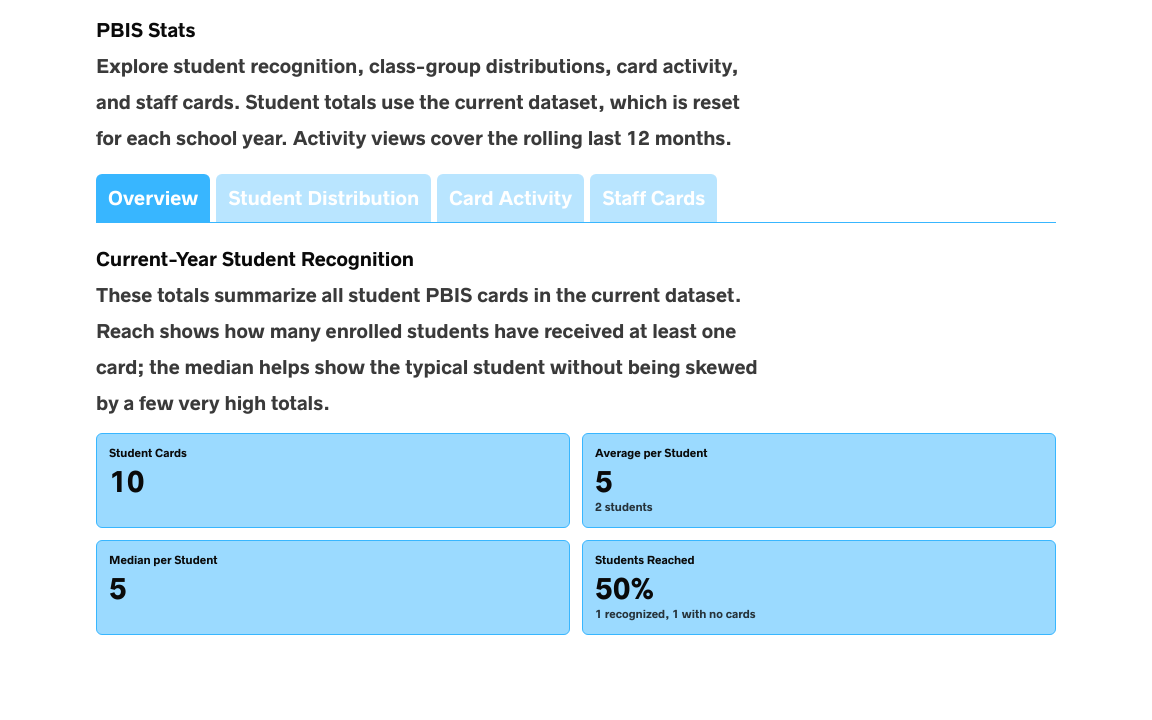
Test: PBIS Stats › explains and displays deduplicated teacher student data
Click the button "Student Distribution" at (324, 198), box [216,174,431,222]
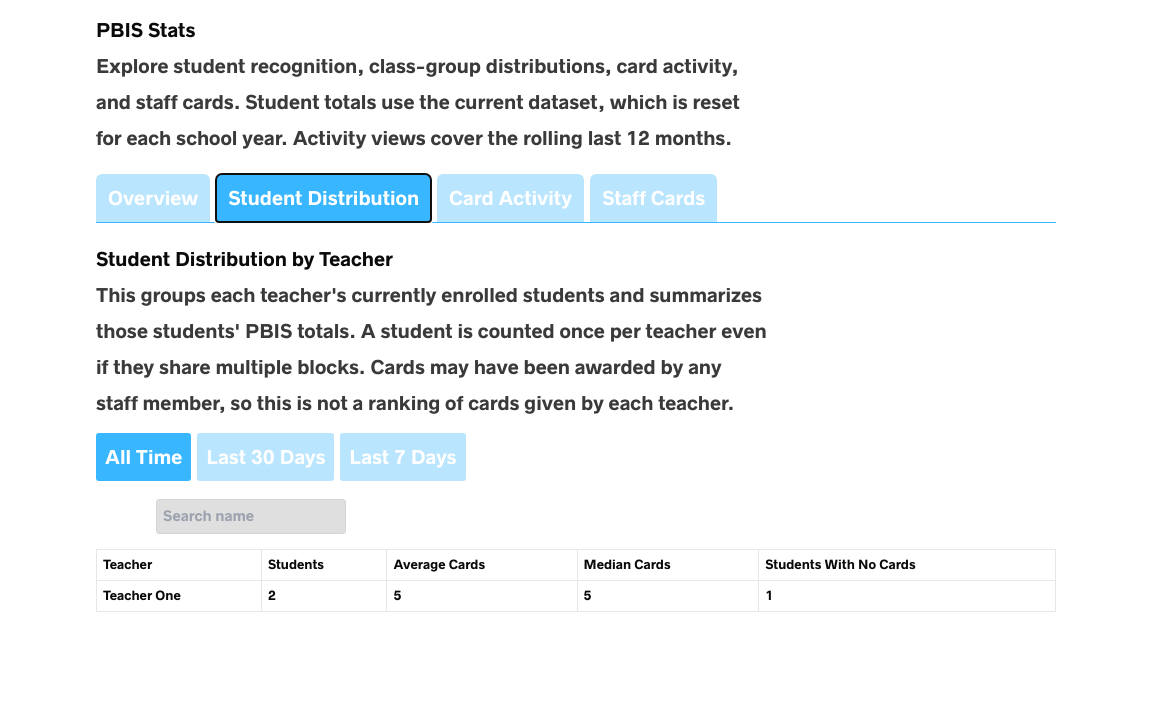
Expected: the cell "2" is shown, [261,580,387,612]
Expected: the text "not a ranking of cards given by each teacher" is shown, [96,283,767,415]
Expected: the cell "Teacher One" is shown, [96,580,261,612]
